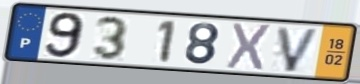1: (155, 20, 178, 65)
3: (92, 15, 131, 62)
8: (184, 21, 222, 66)
9: (43, 11, 88, 60)
V: (275, 25, 323, 74)
X: (224, 21, 274, 73)
